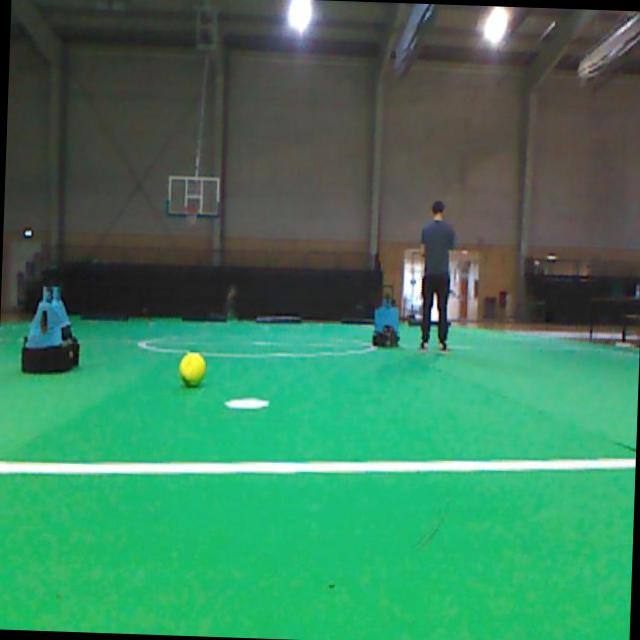ball: (178, 351, 204, 385)
